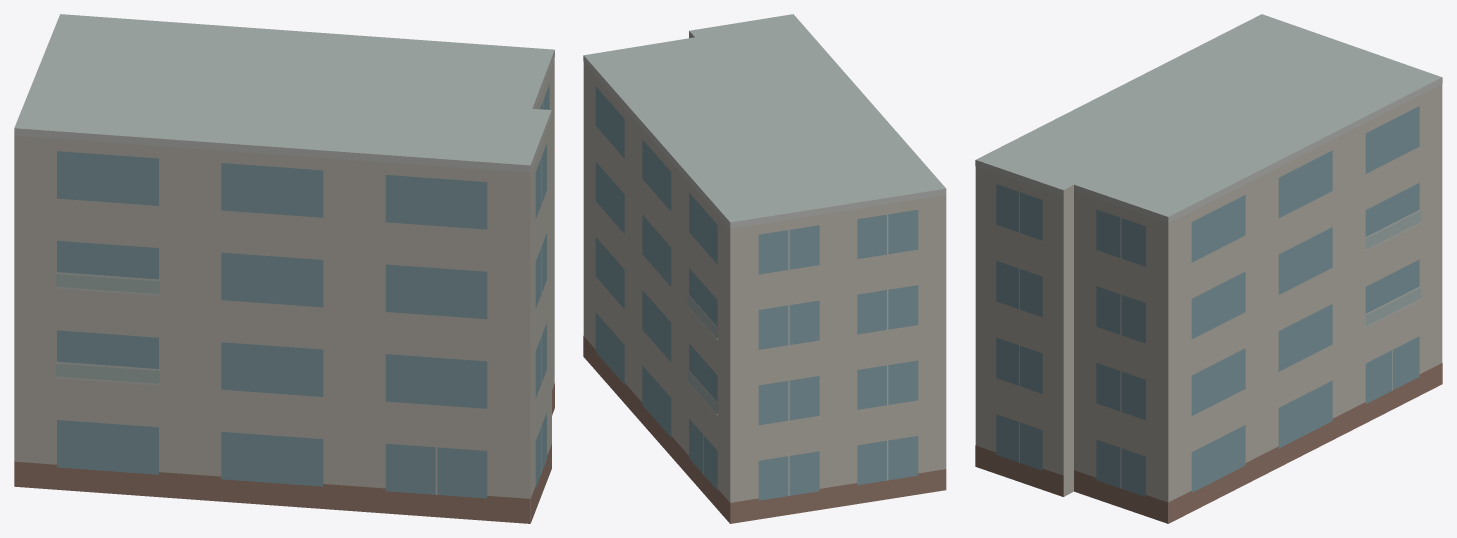
The model's file is survey-upis-32810406.glb.
3 renders of one model, left to right at view 1: azimuth 30°, elevation 25°; view 2: azimuth 150°, elevation 25°; view 3: azimuth 270°, elevation 25°, orthographic. The views are drawn at different scales.
Parts seen in each view (by area): view 1: survey-upis-32810406.tmp; view 2: survey-upis-32810406.tmp; view 3: survey-upis-32810406.tmp.
Part boxes in pixels (x1,y1,x2,y2): survey-upis-32810406.tmp: (14,14,554,523); survey-upis-32810406.tmp: (583,14,946,523); survey-upis-32810406.tmp: (975,14,1442,523).
Bounding box in the file's own units: 16.54 × 11.65 × 16.07.
